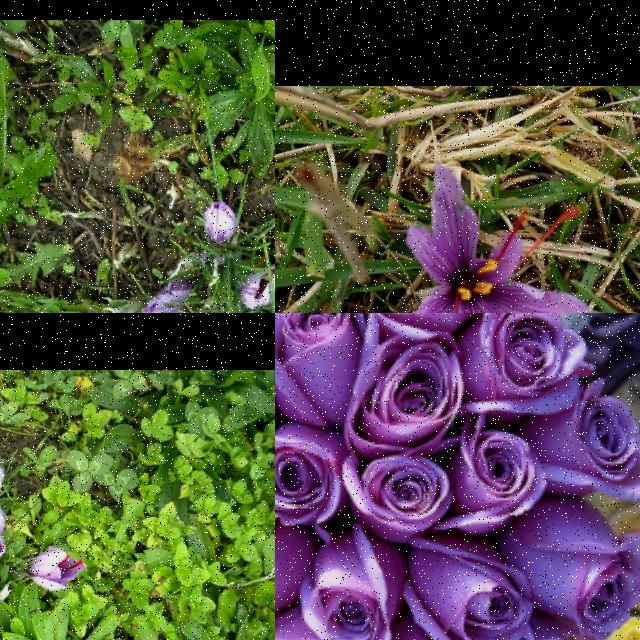flower: (398, 159, 598, 313), (31, 548, 89, 592), (243, 264, 275, 311), (205, 201, 237, 245)
overlap: (108, 282, 191, 313)
